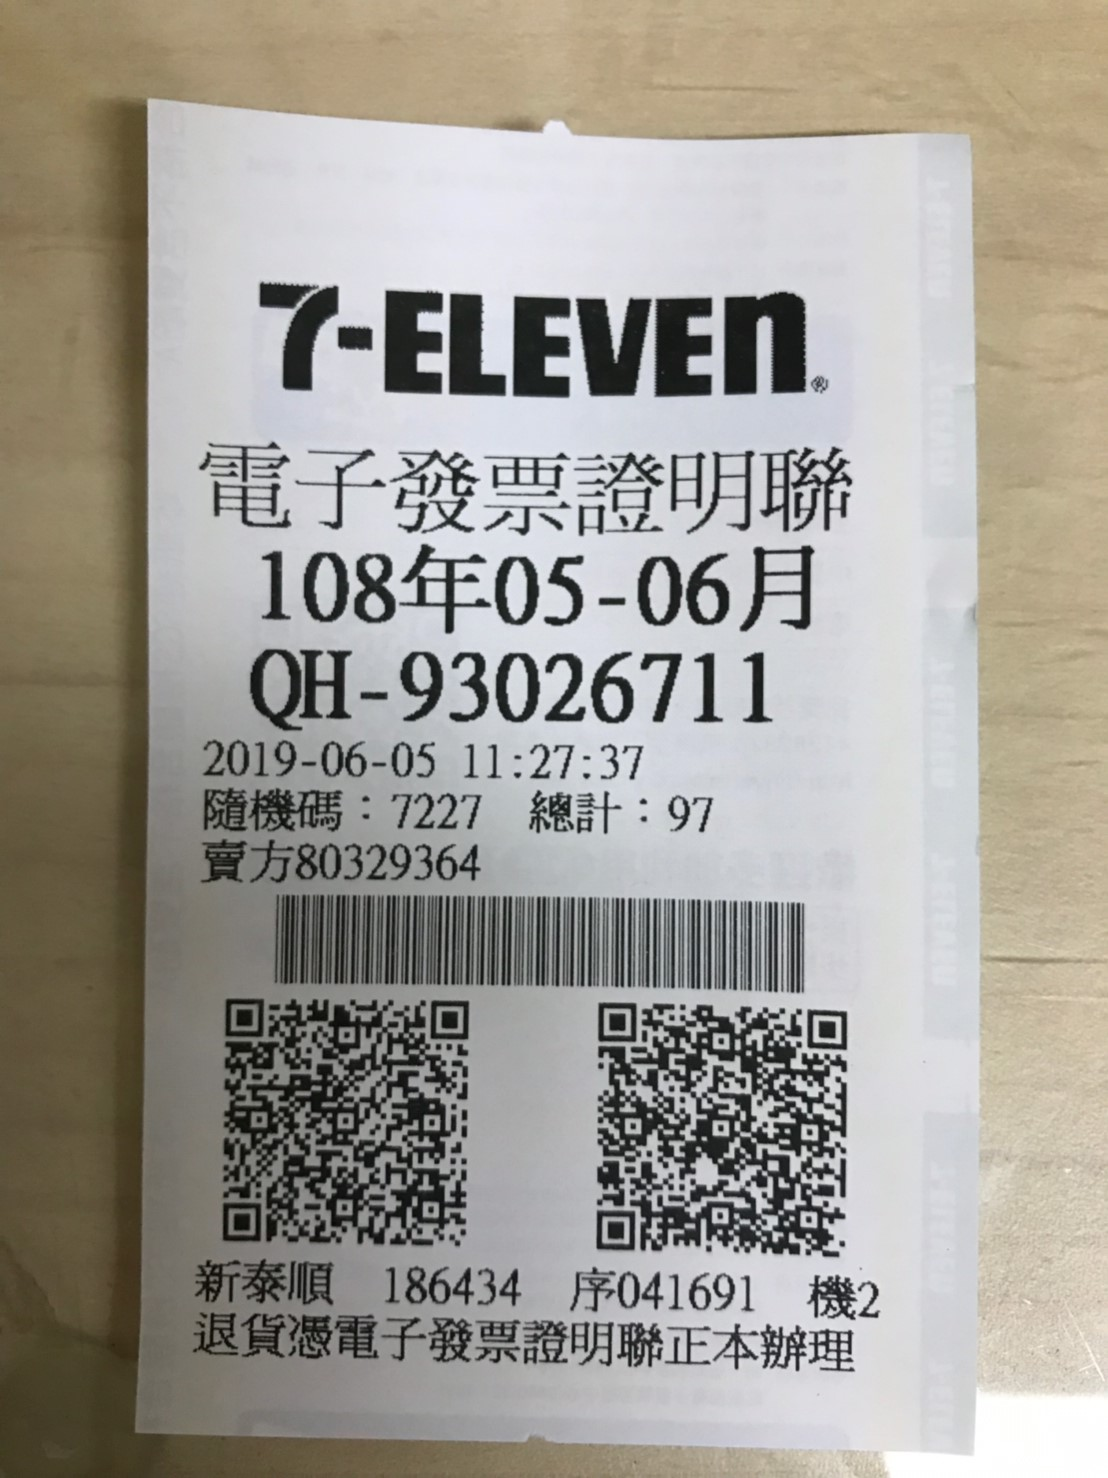Date_New: (253, 543, 818, 632)
Number_New: (399, 638, 777, 736)
